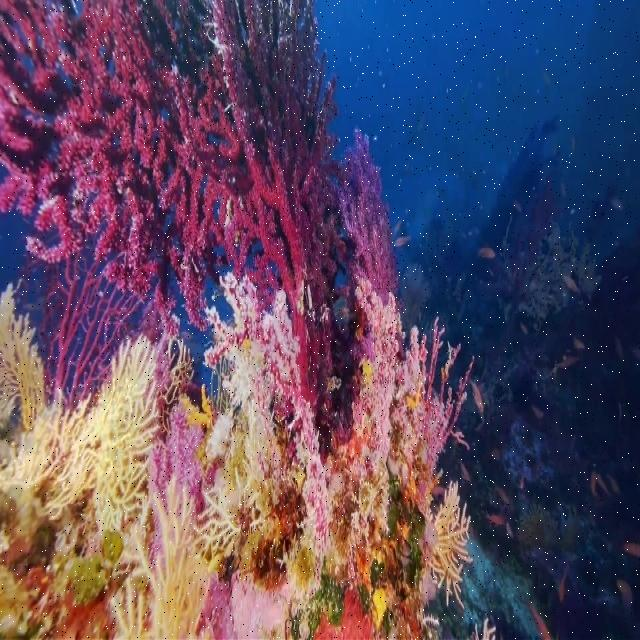reefs: (0, 0, 400, 435), (148, 277, 475, 639), (0, 284, 255, 639), (41, 225, 144, 406)
